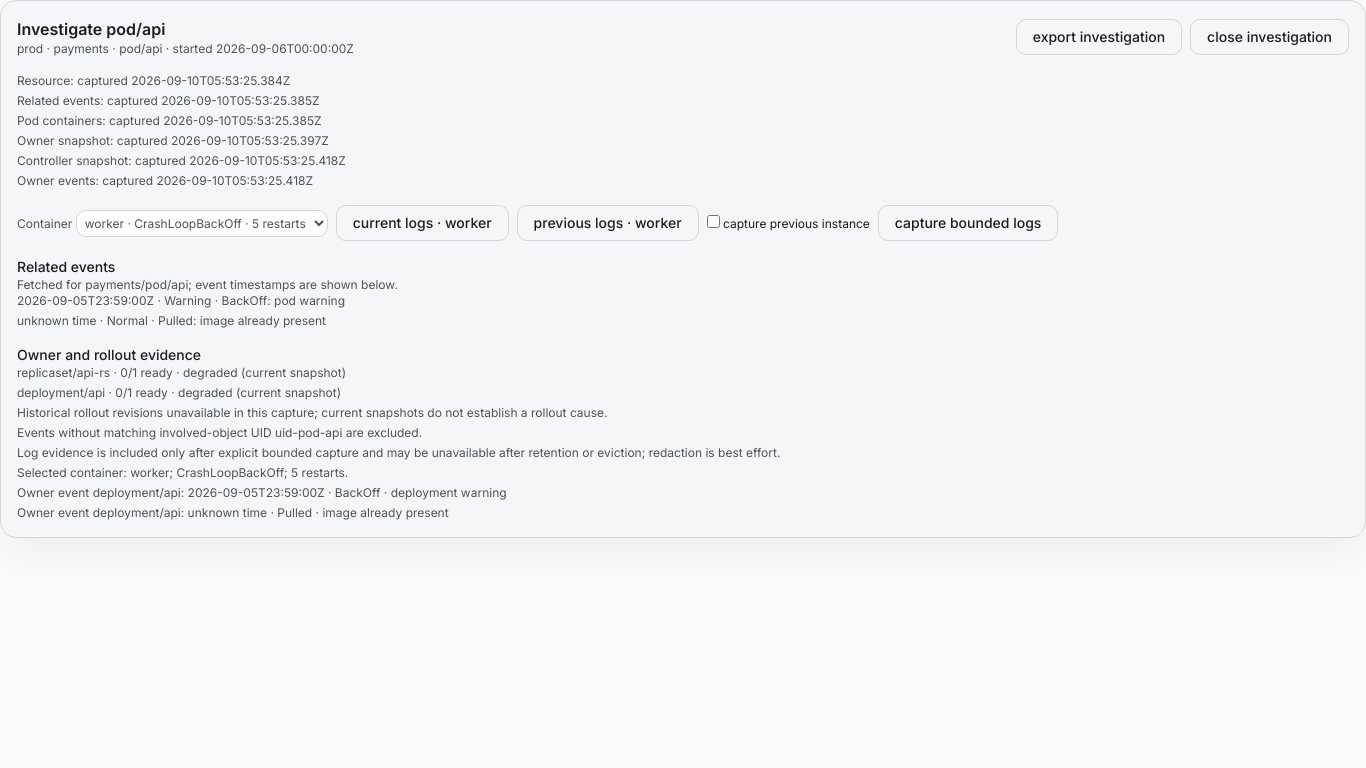
Scenario: recovers capture after a safe native failure and distinguishes successful empty EOF
The width and height of the screenshot is (1366, 768).
Expected: the link "previous logs · worker" is shown, [517,205,699,241]
Expected: the button "export investigation" is enabled, [1016,19,1182,55]
Click the button "capture bounded logs" at (968, 223), box [878,205,1058,241]
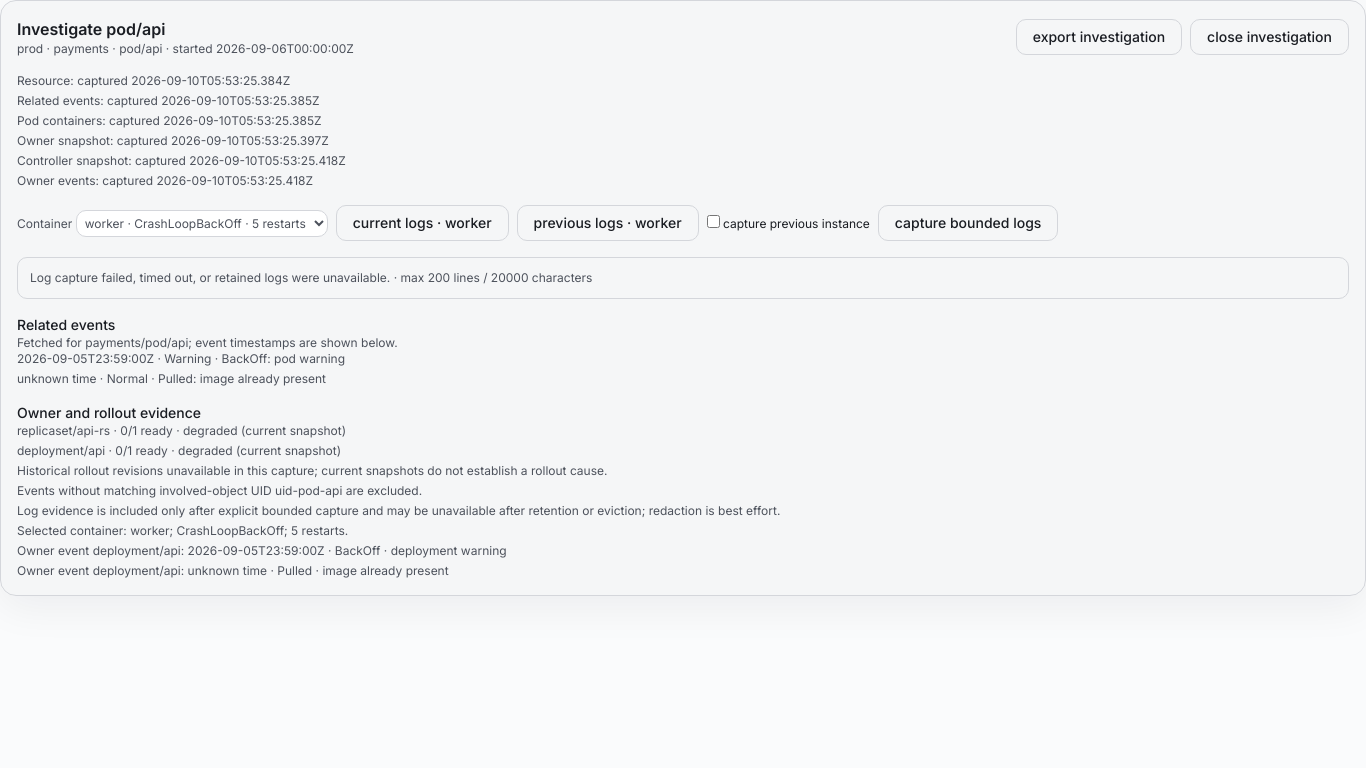
Expected: the text "Log capture failed, timed out" is shown, [30,270,390,285]
Click the button "capture bounded logs" at (968, 223), box [878,205,1058,241]
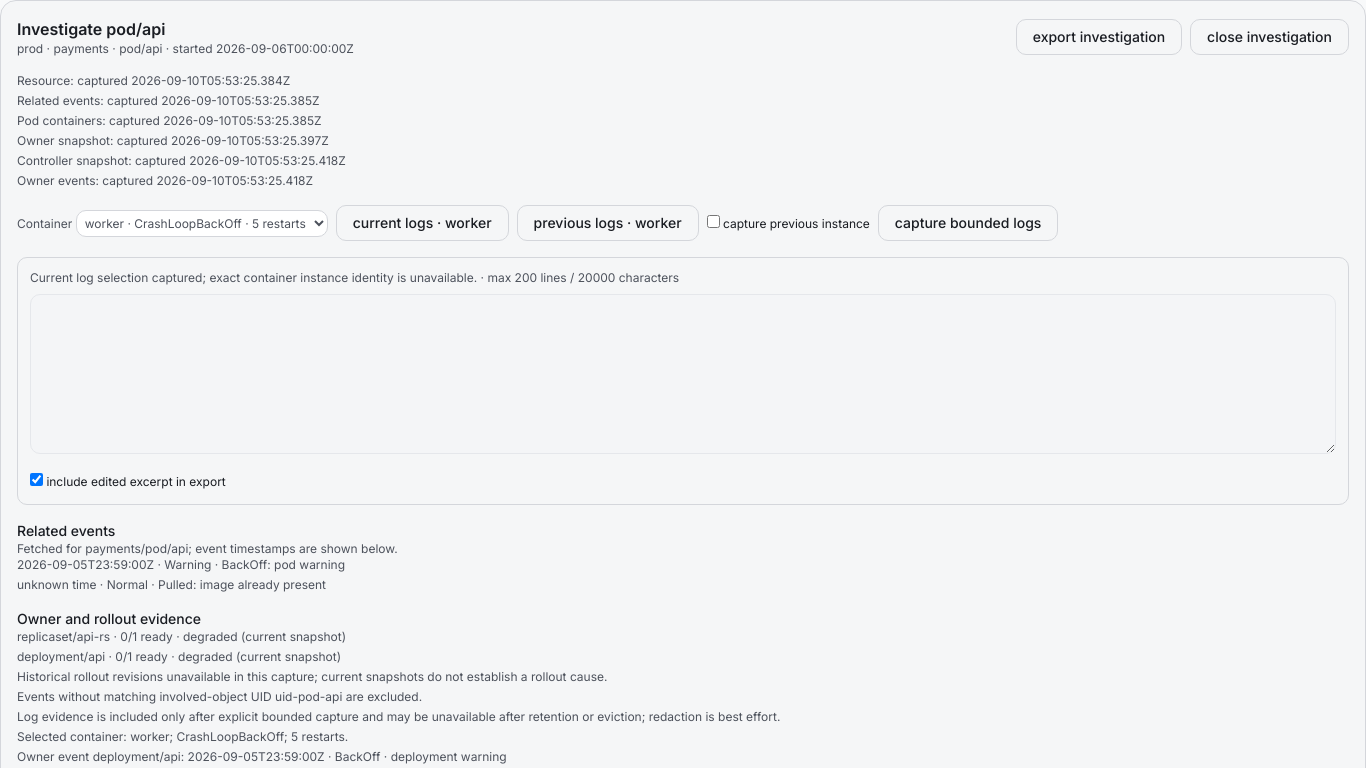
Expected: the text box named "Log evidence preview" is empty, [30,294,1336,454]
Expected: the checkbox labelled "include edited excerpt in export" is checked, [30,473,43,486]
